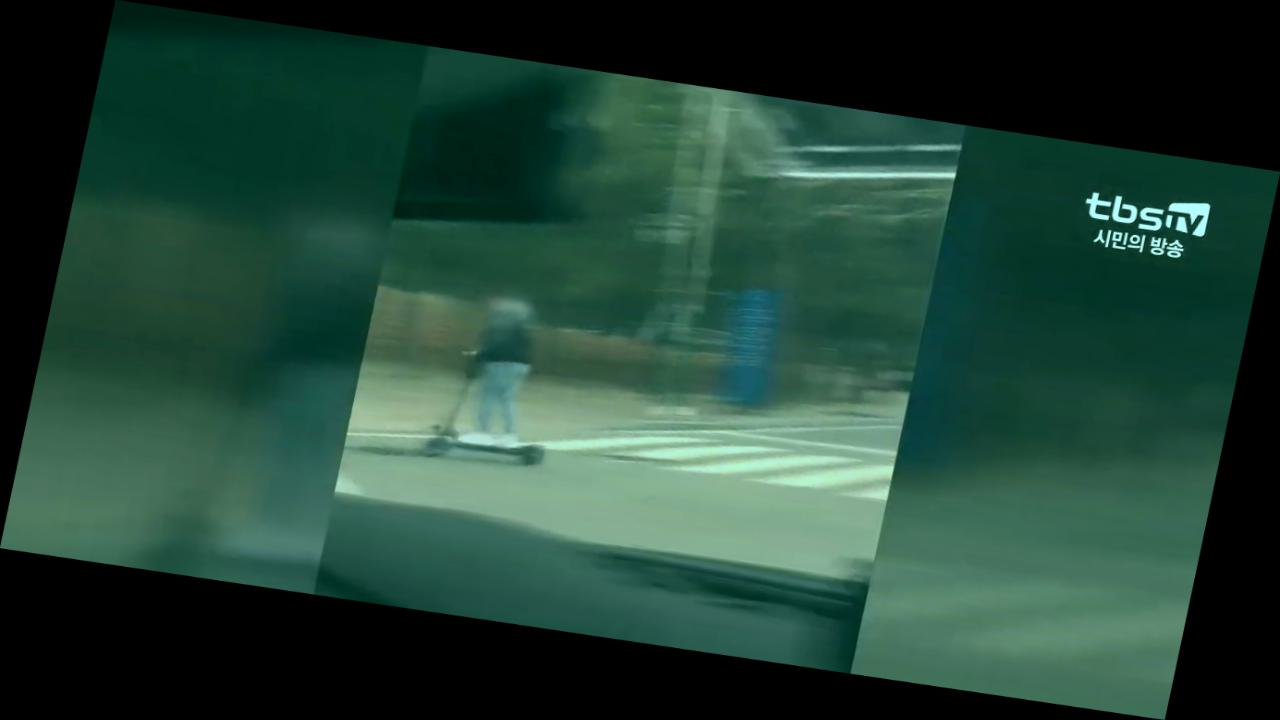nonhelmet: (412, 279, 586, 476)
